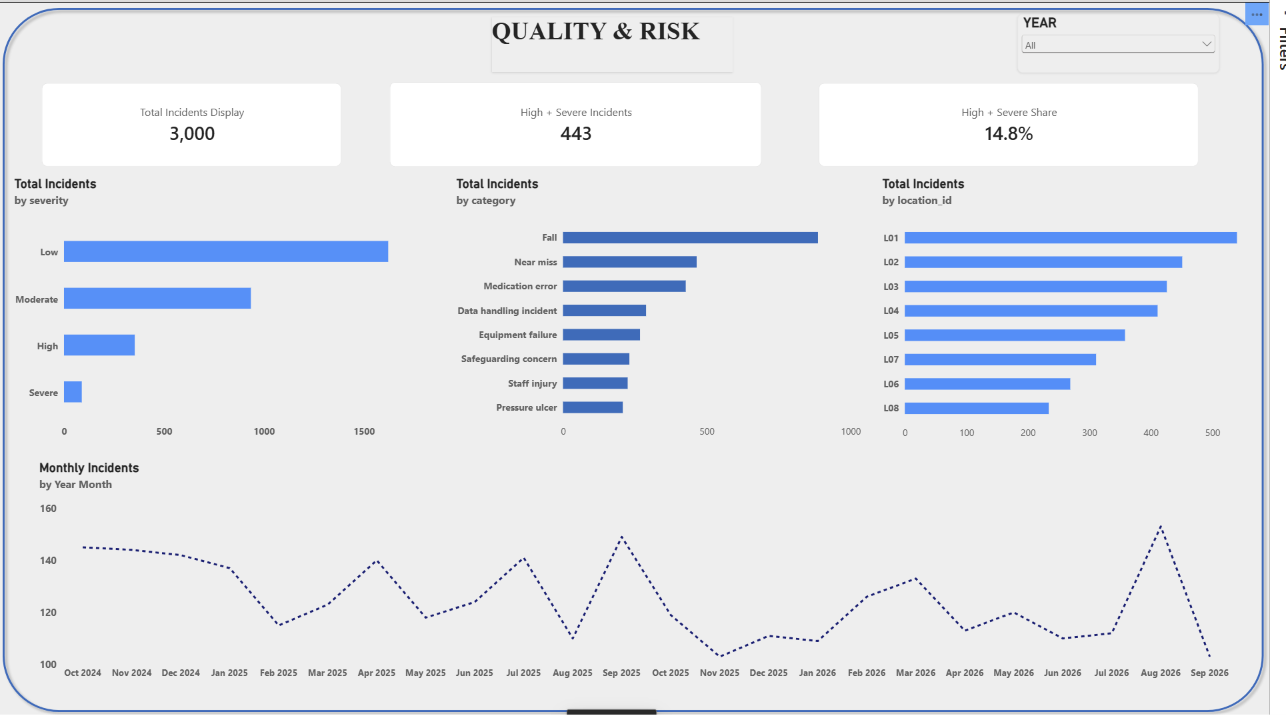

This screenshot's page, from the dashboard's own definition file:
{"tool":"powerbi","page":{"name":"Quality & Risk","canvas":[1920,1080],"ordinal":3},"visuals":[{"type":"shape","box":[0,0,1920.5,1080.2],"z":0},{"type":"textbox","box":[746.8,22.6,363.6,83.7],"z":1},{"type":"cardVisual","fields":{"Data":["_Measures.Total Incidents Display"]},"box":[67.9,122.2,452.6,126.7],"z":2},{"type":"cardVisual","fields":{"Data":["_Measures.High + Severe Incidents"]},"box":[592.9,120.7,561.2,128.2],"z":3},{"type":"cardVisual","fields":{"Data":["_Measures.High + Severe Share"]},"box":[1240.1,122.2,573.3,126.7],"z":4},{"type":"clusteredBarChart","fields":{"Category":["public vw_incidents_reporting.severity"],"Y":["_Measures.Total Incidents"]},"box":[10.6,248.9,666.8,430],"z":5},{"type":"clusteredBarChart","fields":{"Category":["public vw_incidents_reporting.category"],"Y":["_Measures.Total Incidents"]},"box":[677.4,248.9,642.7,430],"z":6},{"type":"clusteredBarChart","fields":{"Category":["public vw_incidents_reporting.location_id"],"Y":["_Measures.Total Incidents"]},"box":[1320.1,248.9,588.4,431.5],"z":7},{"type":"lineChart","fields":{"Category":["DateTable.Year Month"],"Y":["_Measures.Monthly Incidents"]},"box":[48.3,677.4,1828.5,365.1],"z":8},{"type":"slicer","fields":{"Values":["DateTable.Year"]},"box":[1539.9,18.8,303.9,88.8],"z":9}]}

Visuals, with their boxes in screenshot pixels (x1, y1, x2, y2), scaled from the page's 1920x1080 canvas onto the 1286x715 screenshot:
shape: rect(0, 0, 1285, 714)
textbox: rect(500, 15, 744, 70)
cardVisual - _Measures.Total Incidents Display: rect(45, 81, 349, 165)
cardVisual - _Measures.High + Severe Incidents: rect(397, 80, 773, 165)
cardVisual - _Measures.High + Severe Share: rect(831, 81, 1215, 165)
clusteredBarChart - public vw_incidents_reporting.severity x _Measures.Total Incidents: rect(7, 165, 454, 449)
clusteredBarChart - public vw_incidents_reporting.category x _Measures.Total Incidents: rect(454, 165, 884, 449)
clusteredBarChart - public vw_incidents_reporting.location_id x _Measures.Total Incidents: rect(884, 165, 1278, 450)
lineChart - DateTable.Year Month x _Measures.Monthly Incidents: rect(32, 448, 1257, 690)
slicer - DateTable.Year: rect(1031, 12, 1235, 71)
